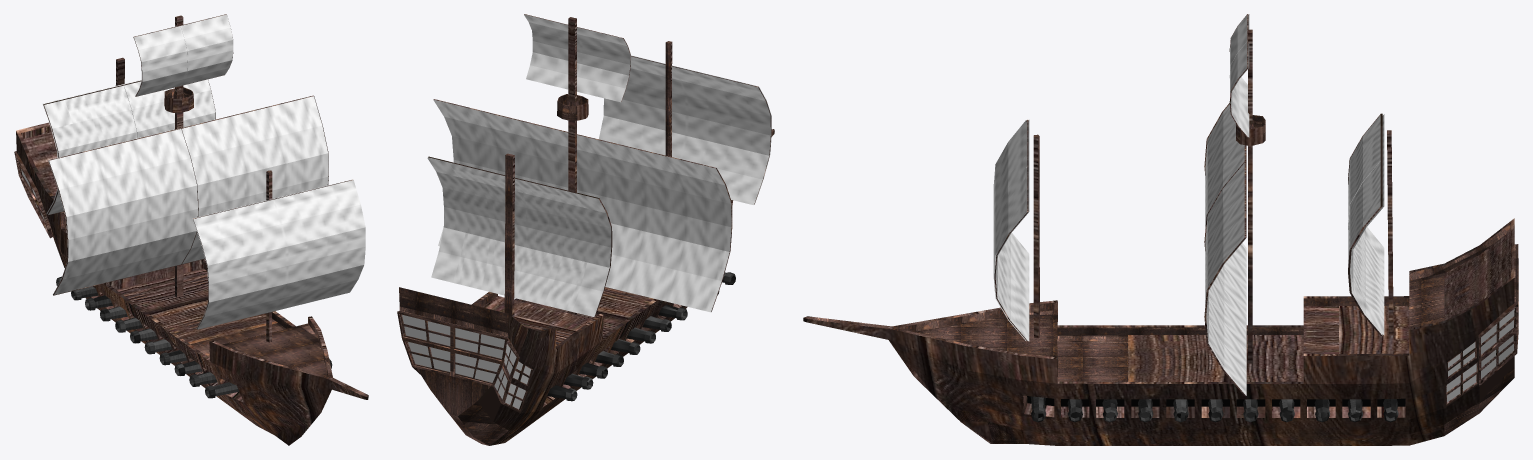
File: pirate_ship11.fbx
3 views of the same model, side by side, from view 1: azimuth 30°, elevation 25°; view 2: azimuth 150°, elevation 25°; view 3: azimuth 270°, elevation 25° (orthographic). The views are drawn at different scales.
Visible parts, largest first — view 1: PirateShip; view 2: PirateShip; view 3: PirateShip.
Boxes of the visible parts, box(x1,y1,x2,y2) form: PirateShip: box(14, 14, 368, 445); PirateShip: box(397, 14, 774, 445); PirateShip: box(803, 14, 1518, 445).
Size of the model in its own units: 515 by 647 by 1017.
